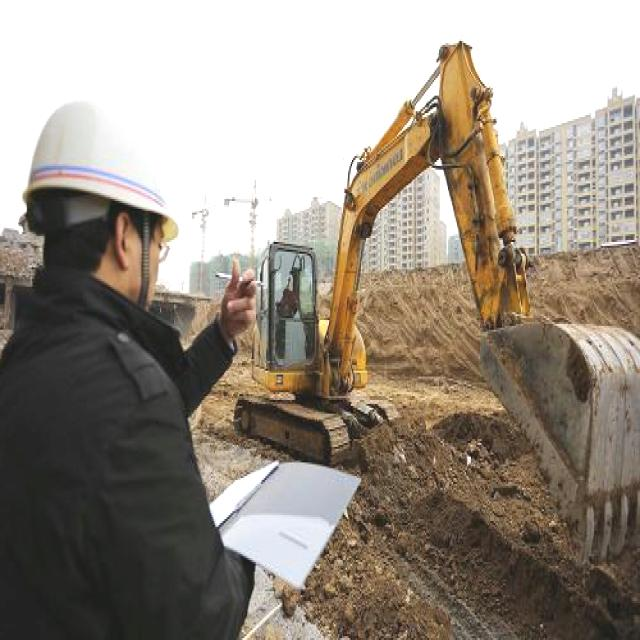hand_noglove: (215, 254, 260, 342)
head_helmet: (14, 94, 181, 210)
person: (0, 78, 273, 617)
